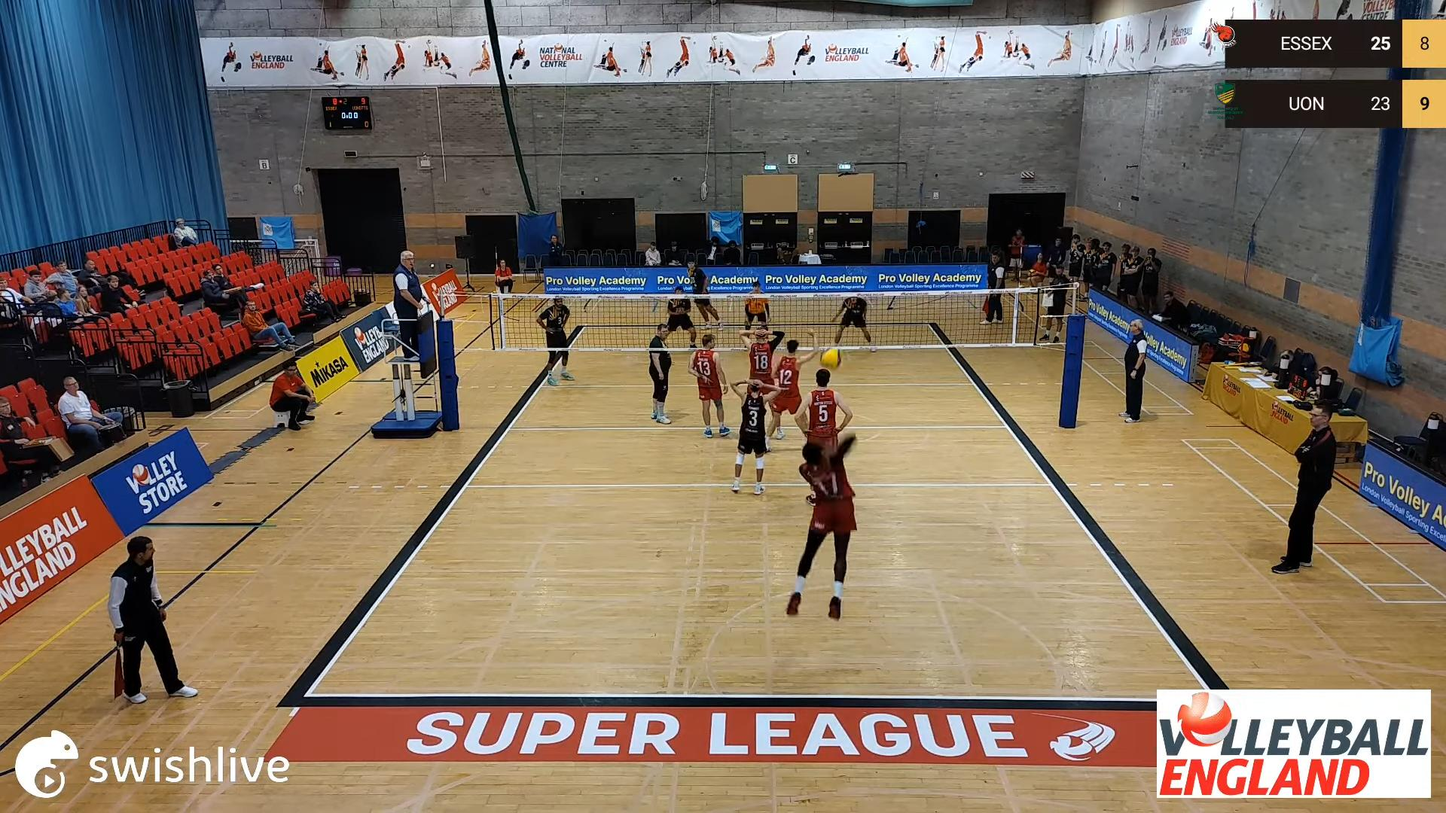Player: (732, 378, 780, 494), (768, 341, 816, 439), (688, 333, 731, 437), (797, 369, 853, 448), (535, 297, 573, 385), (648, 324, 671, 424), (740, 328, 782, 382), (834, 297, 872, 343), (667, 298, 695, 347), (745, 282, 767, 326), (694, 297, 719, 328)
Serve: (788, 405, 863, 621)
ball: (814, 348, 842, 369)
